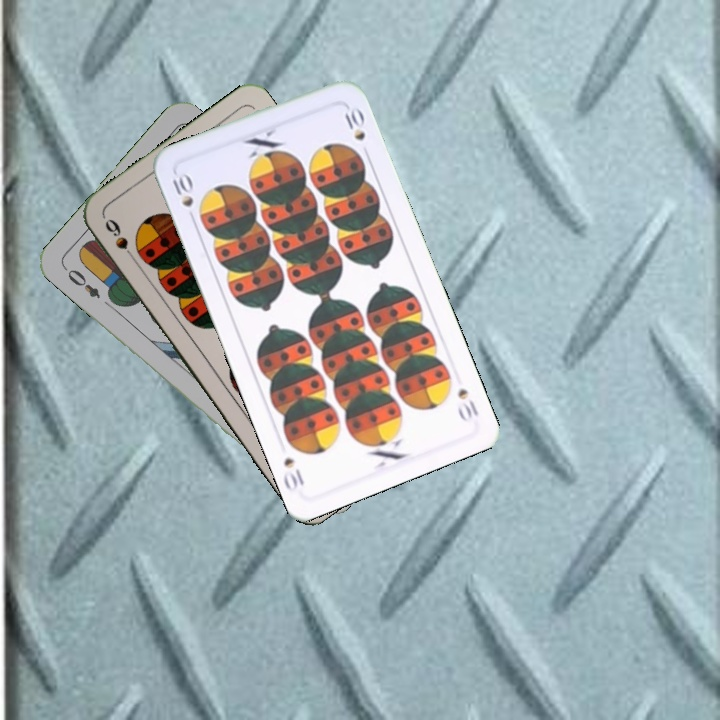EO: (59, 263, 103, 301)
S10: (165, 169, 199, 226), (453, 384, 481, 425)
S9: (101, 214, 140, 266)
